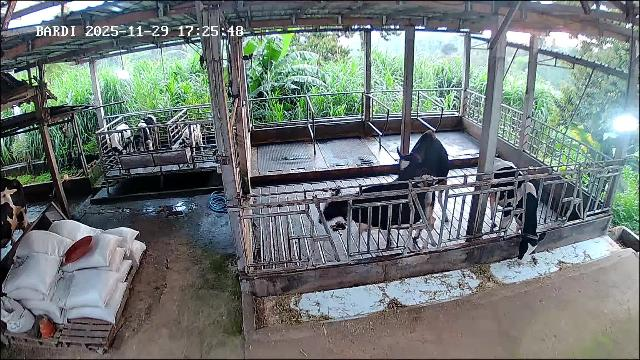mounting: (389, 130, 451, 230)
